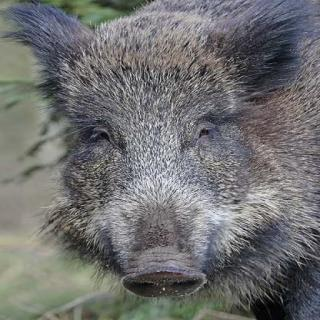Pig: (0, 0, 314, 320)
